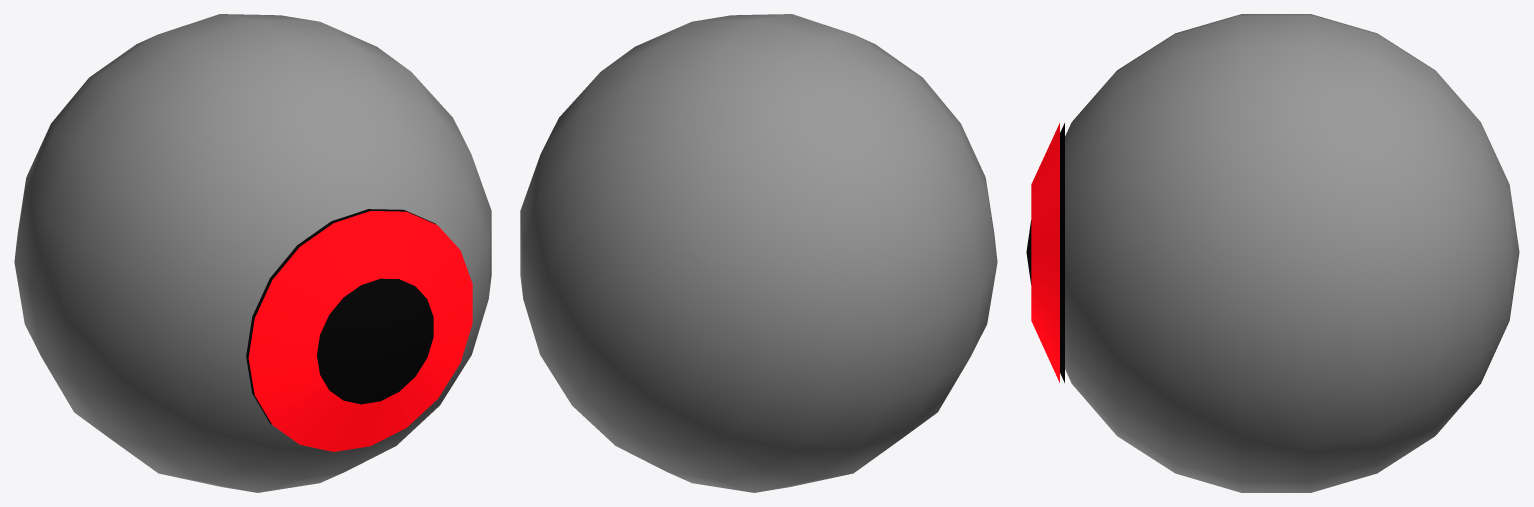
The model's file is eye.fbx.
The picture shows the model from 3 angles, left to right: view 1: azimuth 30°, elevation 25°; view 2: azimuth 150°, elevation 25°; view 3: azimuth 270°, elevation 25°; orthographic projection.
Visible parts, largest first — view 1: Sphere, Sphere.001, Sphere.002; view 2: Sphere; view 3: Sphere, Sphere.001, Sphere.002.
Boxes of the visible parts, <box> form: Sphere: <box>14,14,491,492</box>; Sphere.001: <box>248,211,472,451</box>; Sphere.002: <box>246,209,435,424</box>; Sphere: <box>520,14,997,492</box>; Sphere: <box>1065,14,1519,492</box>; Sphere.001: <box>1031,123,1059,382</box>; Sphere.002: <box>1026,123,1064,382</box>.
Bounding box in the file's own units: 197 × 197 × 203.
